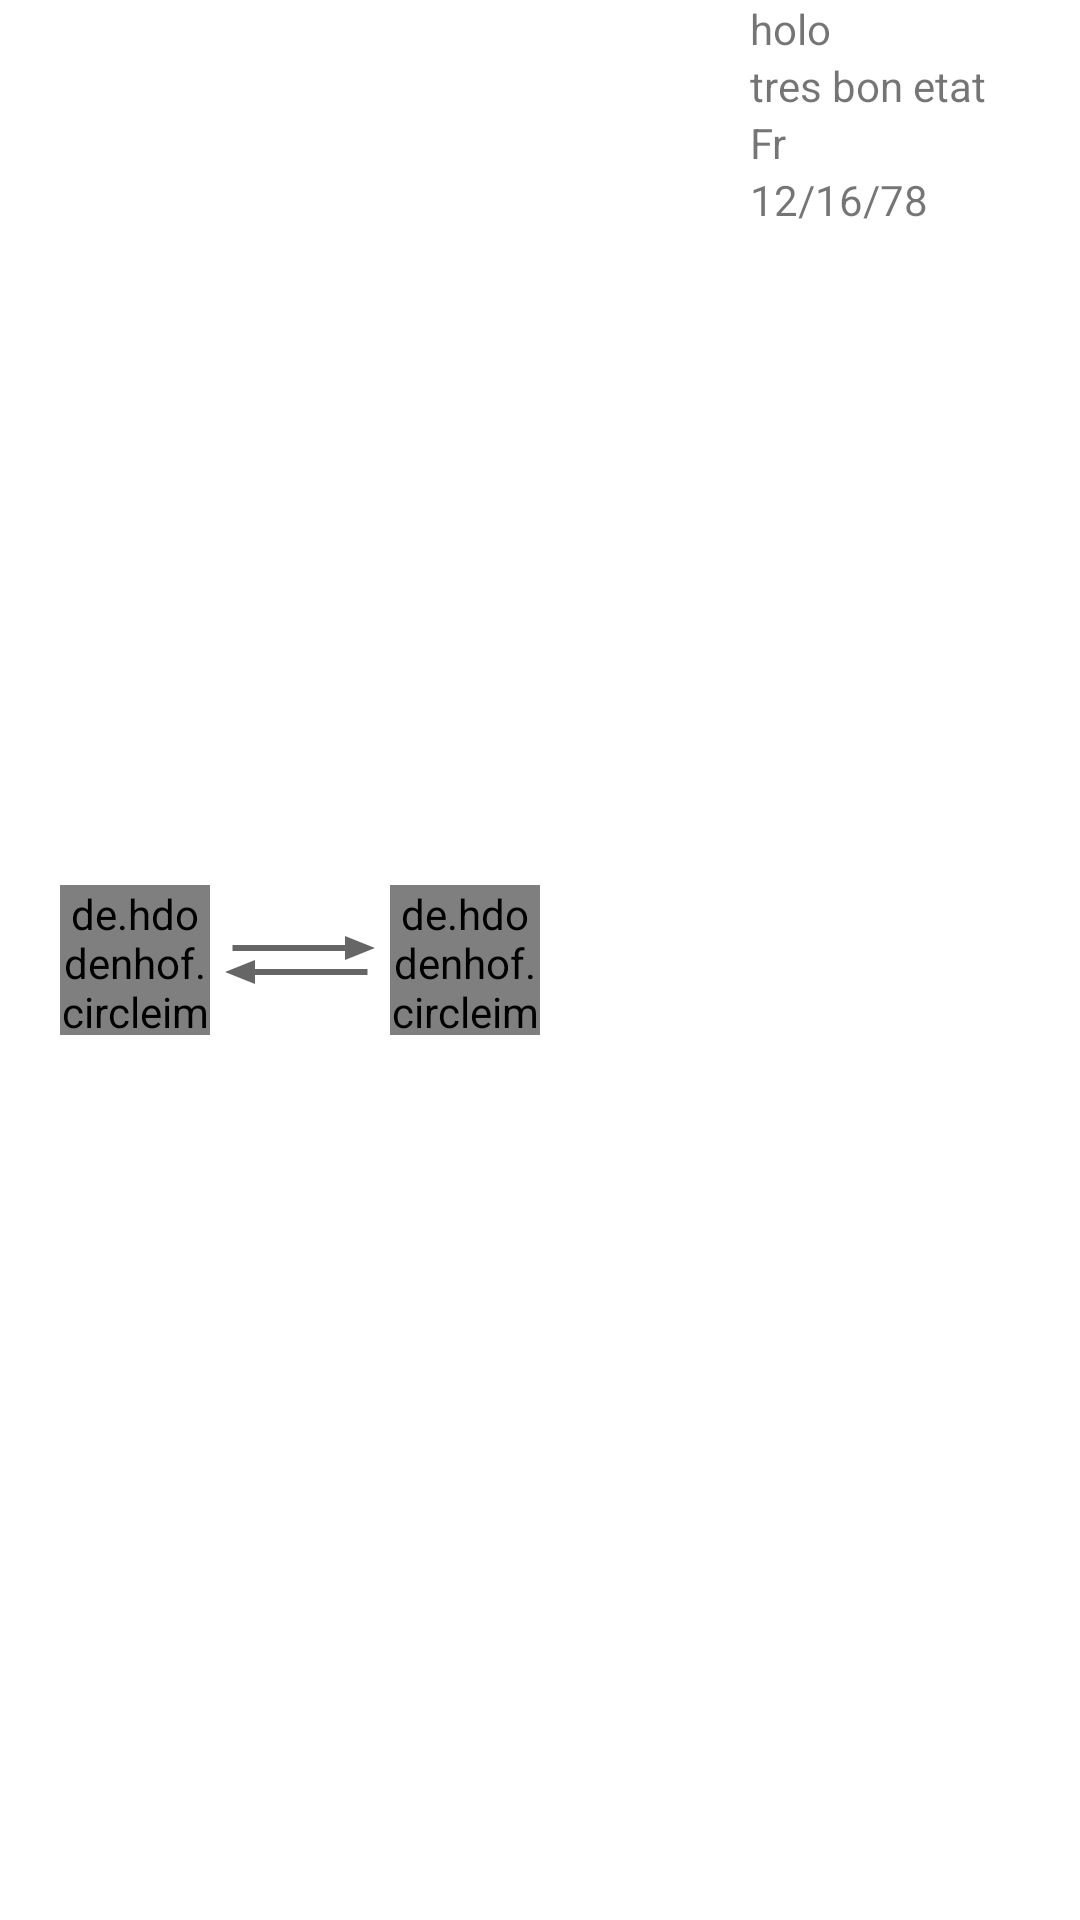

Point at icon controls on the screen. Image size 1080 x 1920, points as point (x, y).
sync: point (300, 960)
